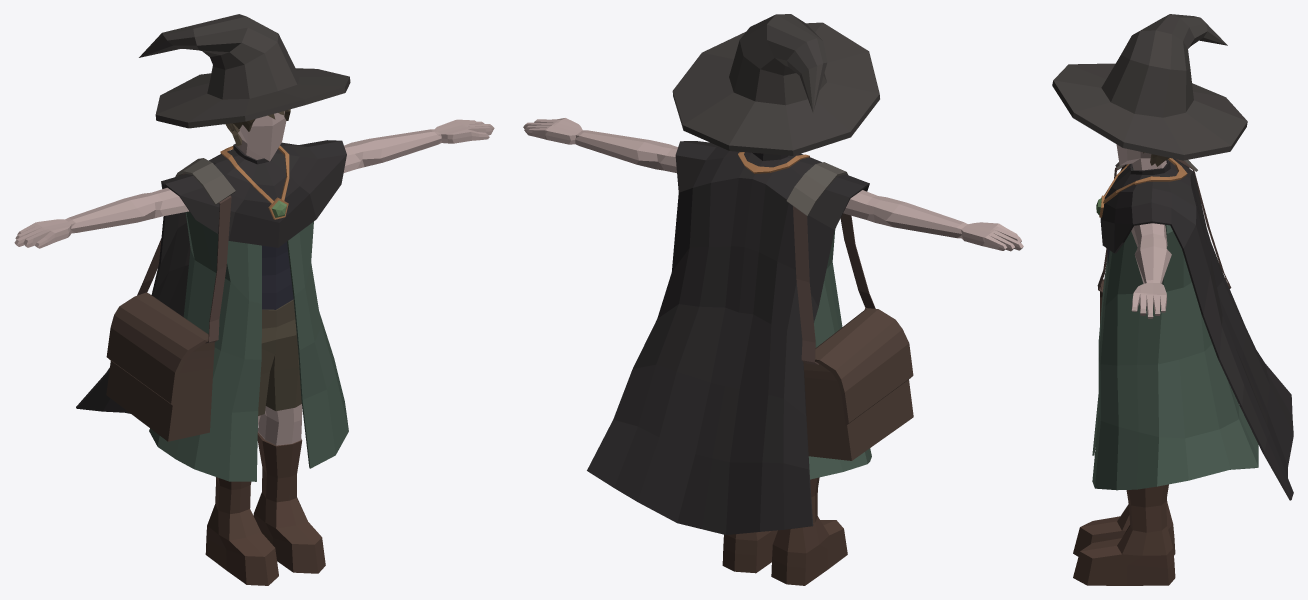
Rendered from Wizard.glb.
3 views of the same model, side by side, from view 1: azimuth 30°, elevation 25°; view 2: azimuth 150°, elevation 25°; view 3: azimuth 270°, elevation 25° (orthographic). The views are drawn at different scales.
Parts seen in each view (by area): view 1: Cube.021, Cube.022, Cube.017, Cube.014, Cube.018, Cube.023, Cube.020, Cube.015, Cube.019, Cube.016, Cube.013; view 2: Cube.022, Cube.017, Cube.014, Cube.023, Cube.018, Cube.015, Cube.021, Cube.016; view 3: Cube.021, Cube.017, Cube.022, Cube.018, Cube.023, Cube.013, Cube.015.
Part boxes in pixels (box(x1,y1,x2,y2)): Cube.021: box(149, 211, 348, 481); Cube.022: box(76, 140, 346, 413); Cube.017: box(139, 14, 350, 128); Cube.014: box(106, 292, 214, 441); Cube.018: box(205, 432, 325, 585); Cube.023: box(14, 111, 494, 445); Cube.020: box(258, 299, 301, 415); Cube.015: box(137, 173, 231, 343); Cube.019: box(262, 242, 293, 309); Cube.016: box(175, 158, 235, 204); Cube.013: box(220, 145, 289, 203); Cube.022: box(587, 141, 869, 534); Cube.017: box(672, 14, 879, 155); Cube.014: box(803, 308, 913, 460); Cube.023: box(523, 118, 1023, 251); Cube.018: box(722, 477, 847, 585); Cube.015: box(793, 206, 875, 364); Cube.021: box(808, 229, 871, 479); Cube.016: box(786, 162, 847, 216); Cube.021: box(1092, 168, 1258, 490); Cube.017: box(1052, 14, 1247, 160); Cube.022: box(1100, 158, 1293, 500); Cube.018: box(1073, 484, 1175, 585); Cube.023: box(1116, 144, 1171, 318); Cube.013: box(1103, 158, 1187, 203); Cube.015: box(1097, 159, 1231, 292).
Size of the model in its own units: 4.71 by 5.04 by 2.07.
